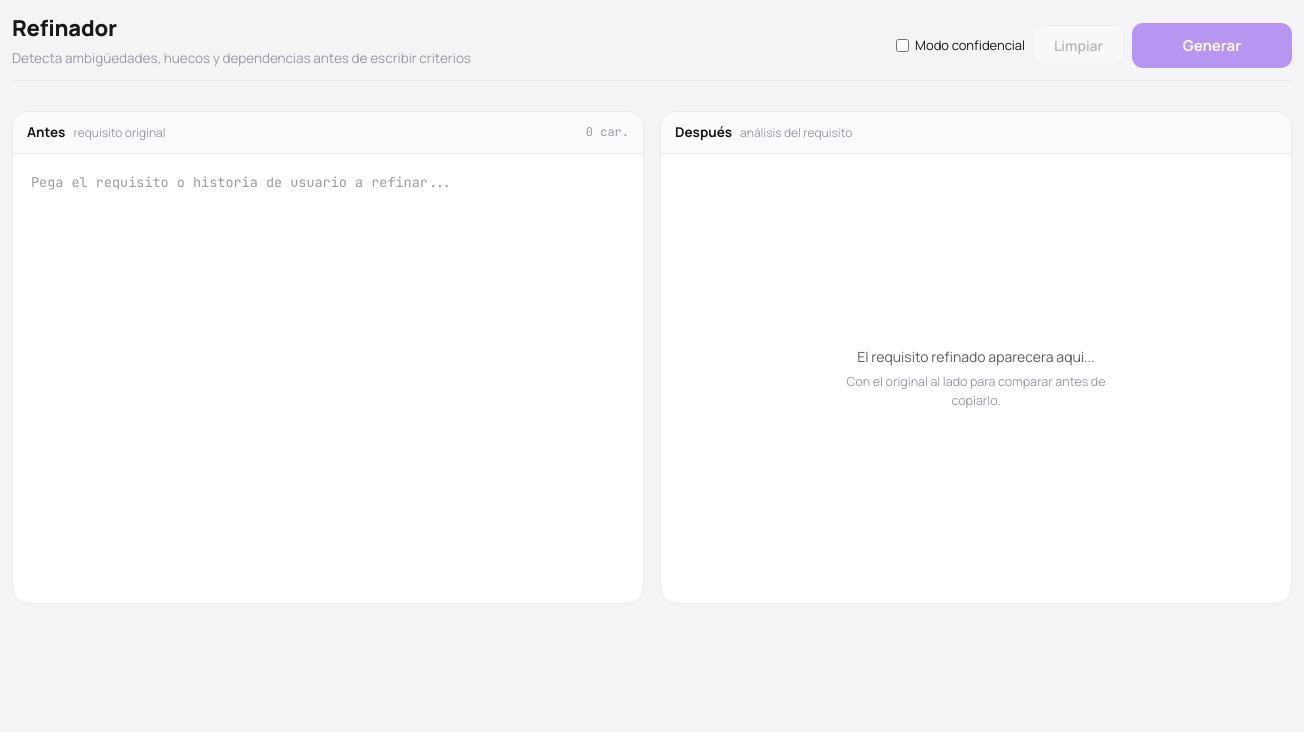
it: RefinerTool — salida en texto plano › quita la sintaxis markdown de la respuesta sin perder las viñetas
Type "El usuario puede filtrar" into the text box at (328, 378), box top-left (17, 158), bottom-right (639, 599)
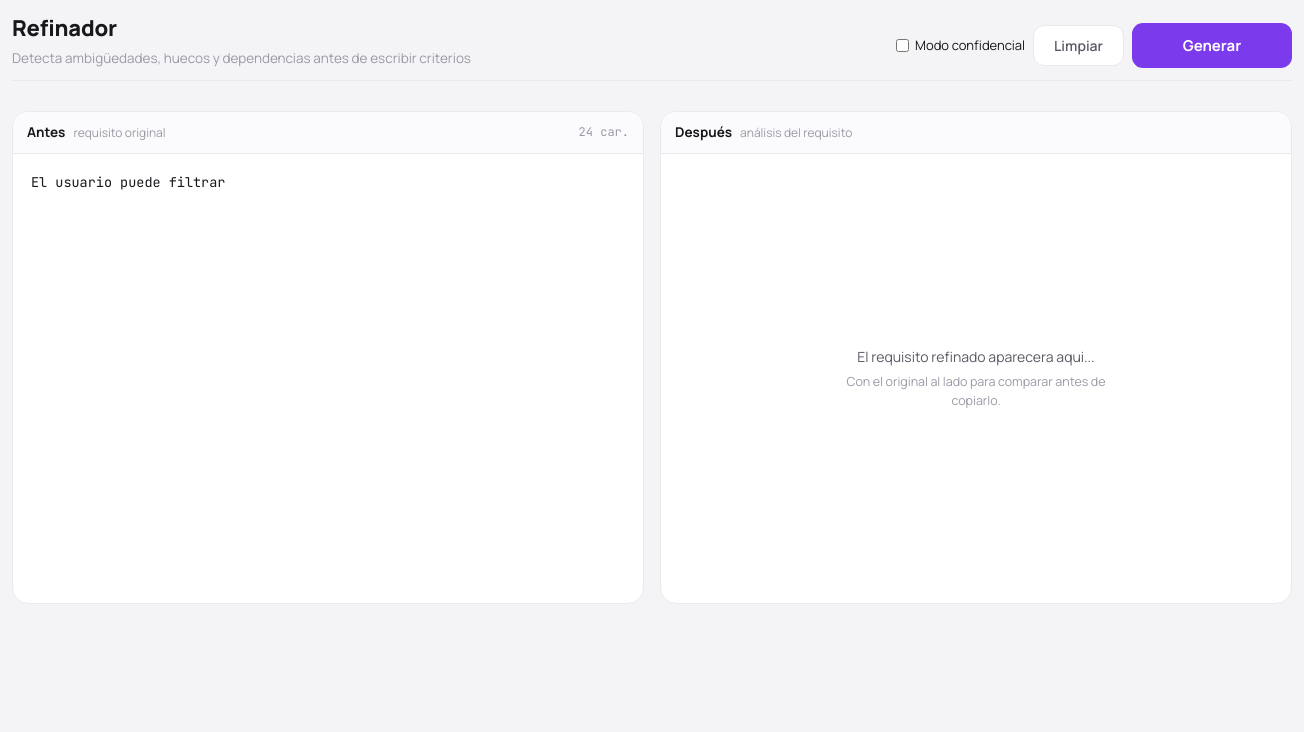
Click the button "Generar" at (1212, 46), box top-left (1132, 23), bottom-right (1292, 68)
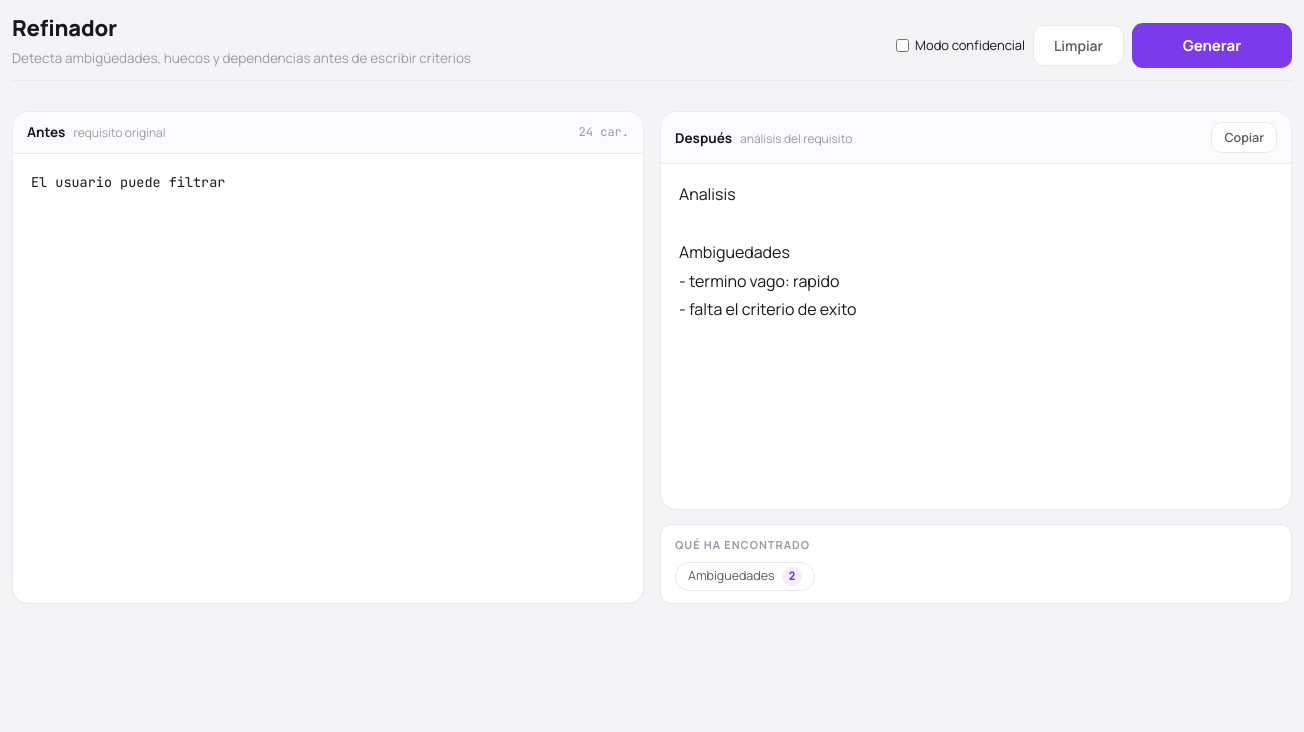
Expected: the text with class "rf-output" shows "termino vago: rapido", top-left (679, 183), bottom-right (856, 320)
Expected: the text with class "rf-output" shows "- falta el criterio de exito", top-left (679, 183), bottom-right (856, 320)
